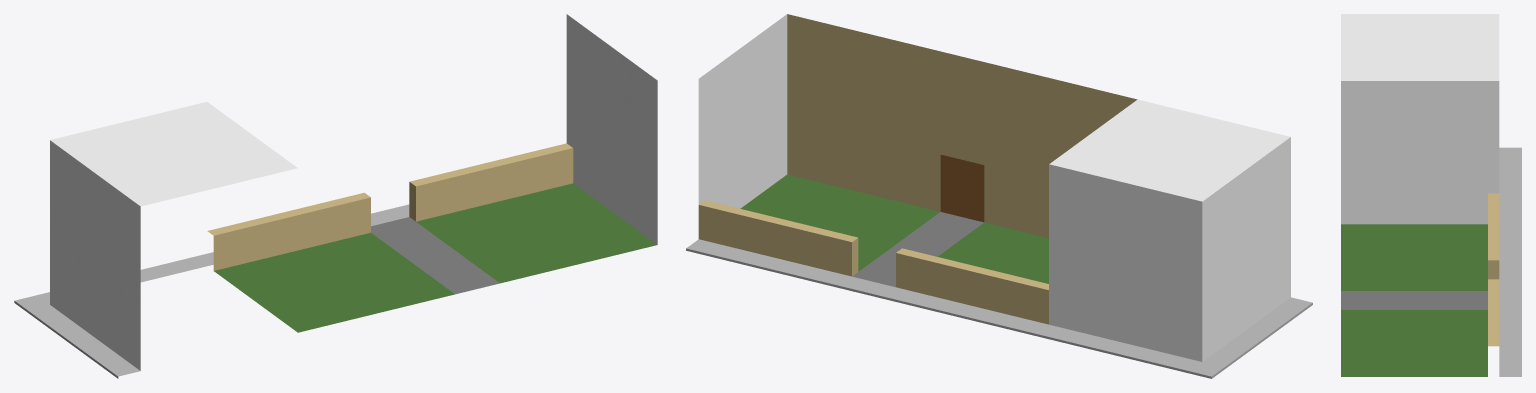
The model's file is museum_art.glb.
3 views of the same model, side by side, from view 1: azimuth 30°, elevation 25°; view 2: azimuth 150°, elevation 25°; view 3: azimuth 270°, elevation 25° (orthographic). The views are drawn at different scales.
Visible parts, largest first — view 1: Buildings, Garden; view 2: Buildings, Garden; view 3: Buildings, Garden.
Part boxes in pixels (x1,y1,x2,y2): Buildings: (14,14,657,378); Garden: (207,143,656,332); Buildings: (686,14,1312,378); Garden: (698,174,1048,324); Buildings: (1341,14,1521,376); Garden: (1341,193,1499,376).
Size of the model in its own units: 24 by 7.1 by 8.
